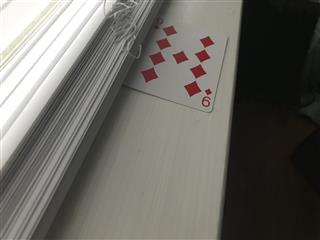NineOfDiamonds: (121, 15, 229, 112)
